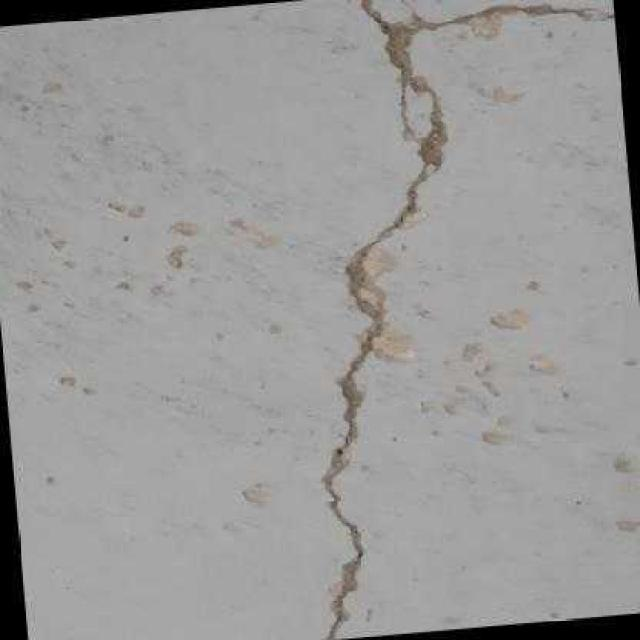D00: (306, 0, 616, 640)
